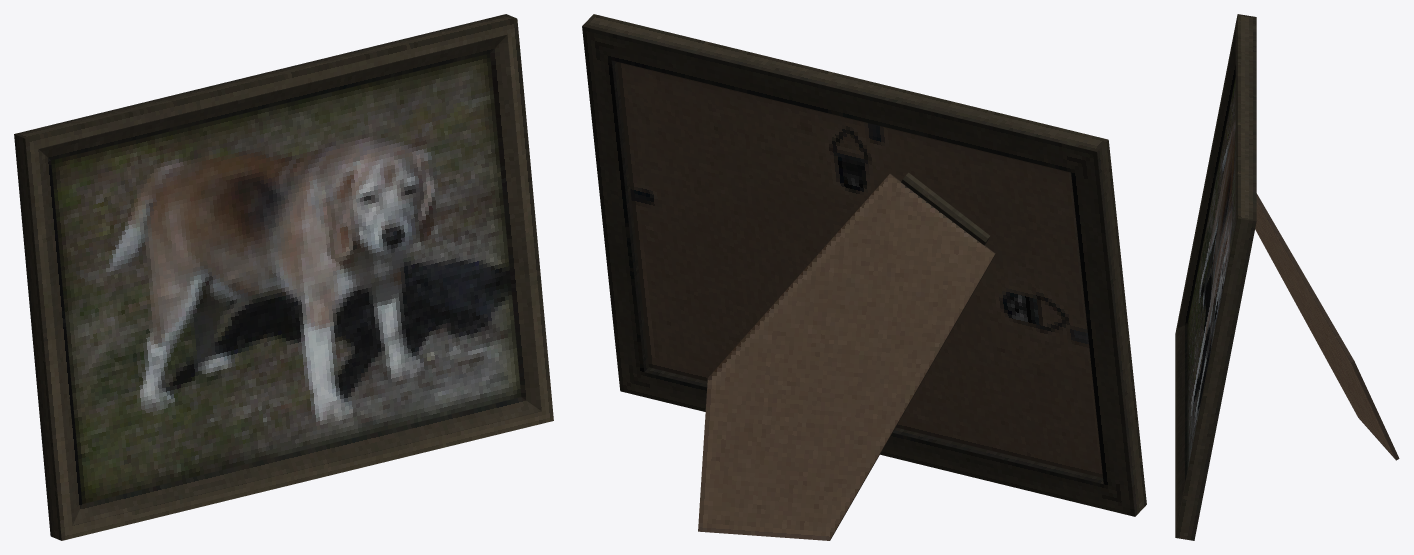
The model's file is photo_frame_mp_2.glb.
3 renders of one model, left to right at view 1: azimuth 30°, elevation 25°; view 2: azimuth 150°, elevation 25°; view 3: azimuth 270°, elevation 25°, orthographic. The views are drawn at different scales.
Visible parts, largest first — view 1: photo_frame_mp_2; view 2: photo_frame_mp_2; view 3: photo_frame_mp_2.
Boxes of the visible parts, x1=… form: photo_frame_mp_2: x1=14, y1=14, x2=553, y2=540; photo_frame_mp_2: x1=582, y1=14, x2=1146, y2=540; photo_frame_mp_2: x1=1175, y1=14, x2=1399, y2=540.
Bounding box in the file's own units: 0.25 × 0.184 × 0.1159.
1 material, 1 textured.
